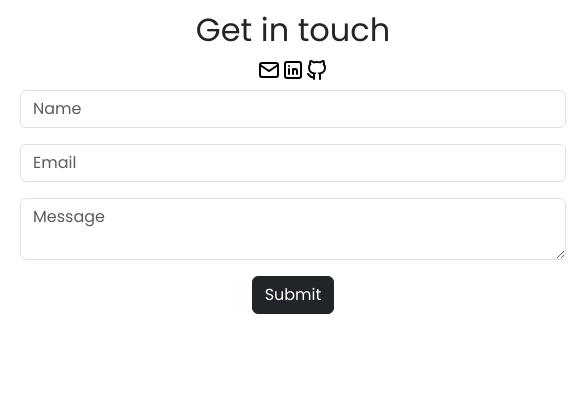
Test: displays error messages for invalid form data
The width and height of the screenshot is (587, 403).
Step 1. Click the button "Submit" → (293, 295), box [252,276,334,314]
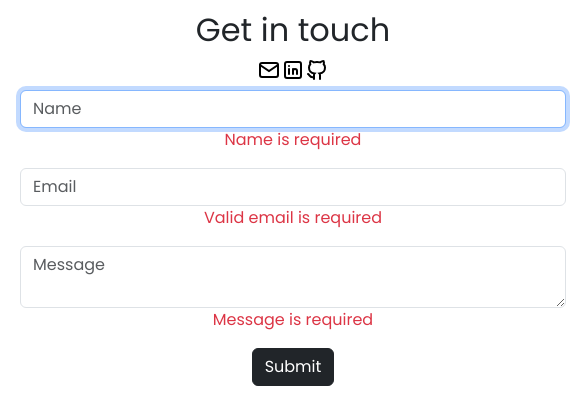
Check: the text "Name is required" is shown, box [224,128,361,151]
Check: the text "Valid email is required" is shown, box [204,206,382,229]
Check: the text "Message is required" is shown, box [213,308,373,331]
